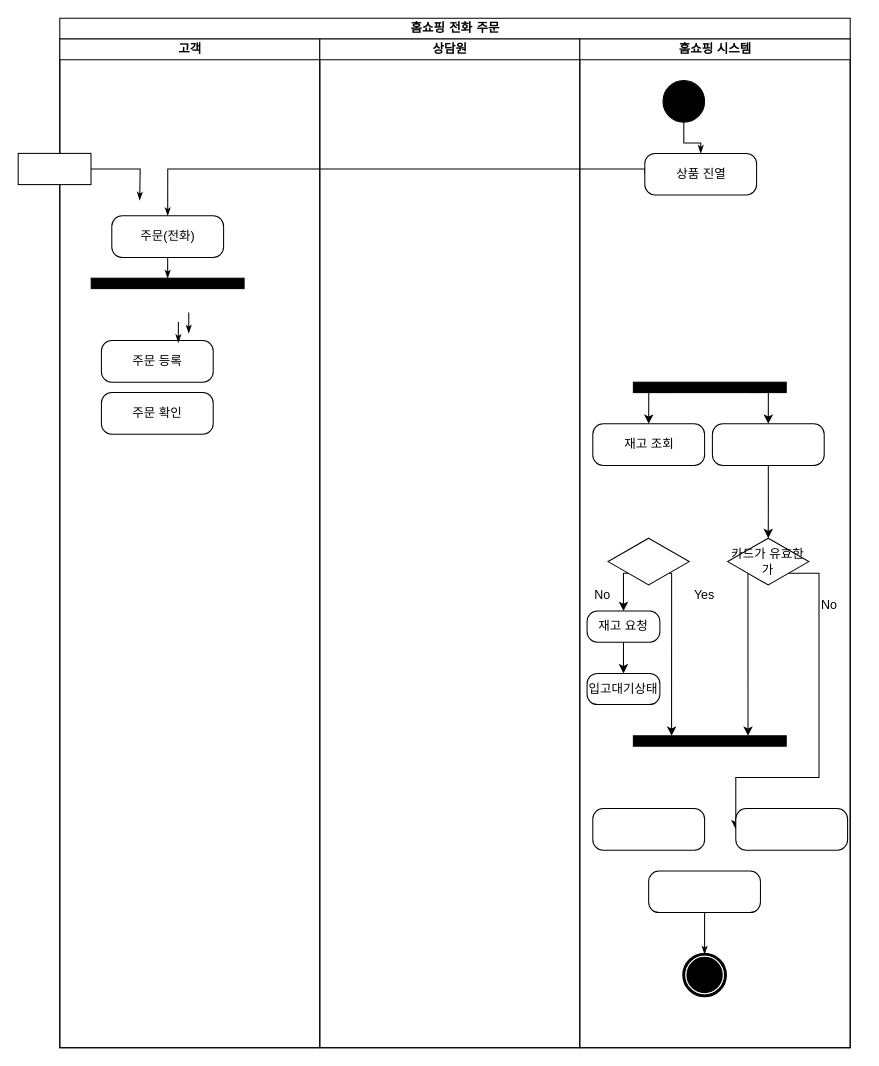
The diagram is 879 pixels wide and 1066 high, and some of its shapes have lost their labels. Here are the shapes that lost their labels. From the top down, the box of each, then its label:
(17, 152, 91, 185): Object
(711, 423, 824, 465): 카드 조회
(607, 537, 689, 585): 재고가 남아있는가
(592, 808, 705, 850): 주문 취소 및 취소 통보 발송
(735, 808, 848, 850): 상품 배송 및 결제완료 통보 발송
(648, 870, 760, 913): 주문 종료
